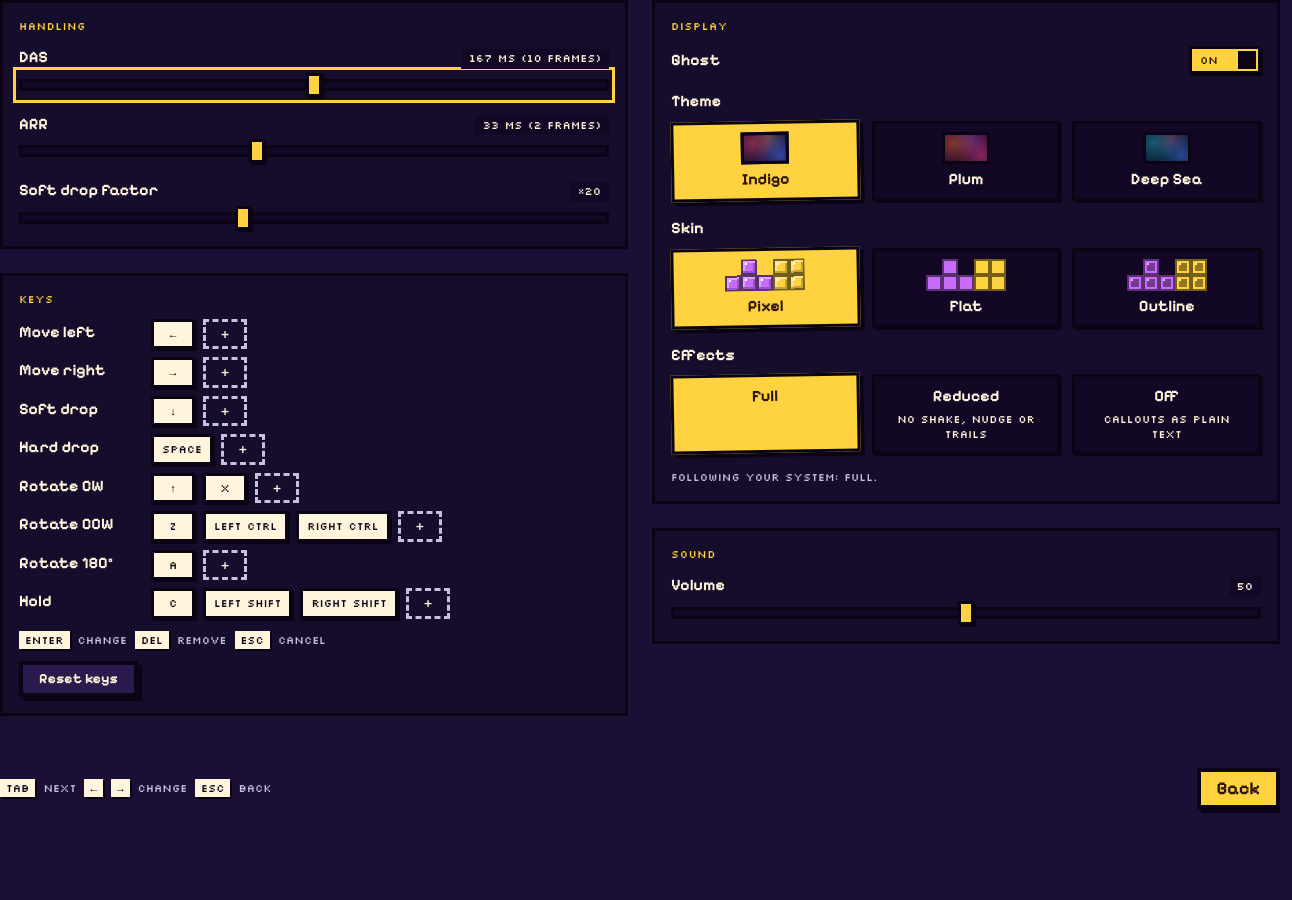
bindings › P is refused: it opens the menu
Click the button named "Hold: C" at point(173, 604), box x1=151 y1=588 x2=195 y2=619
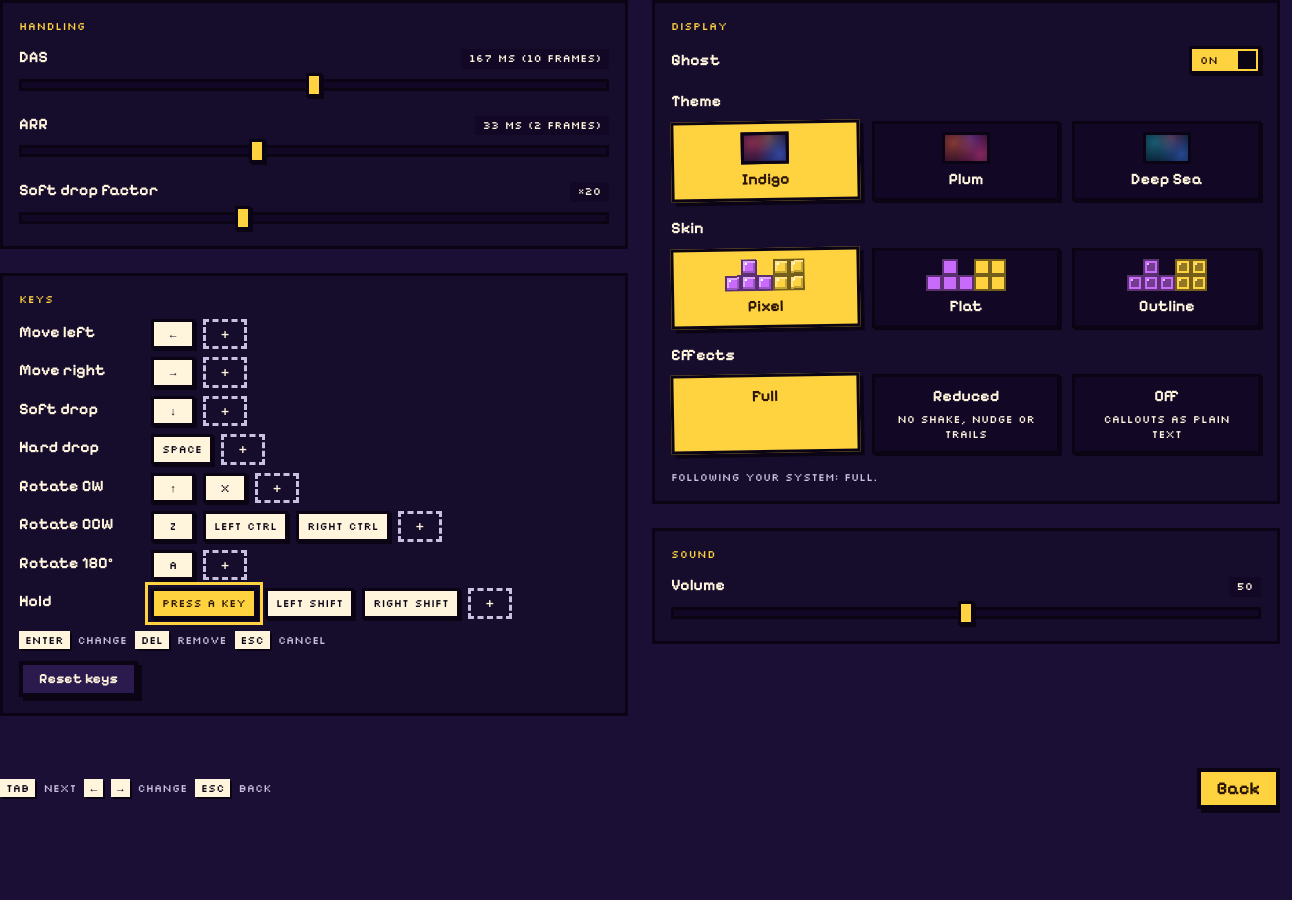
Type keys "p"
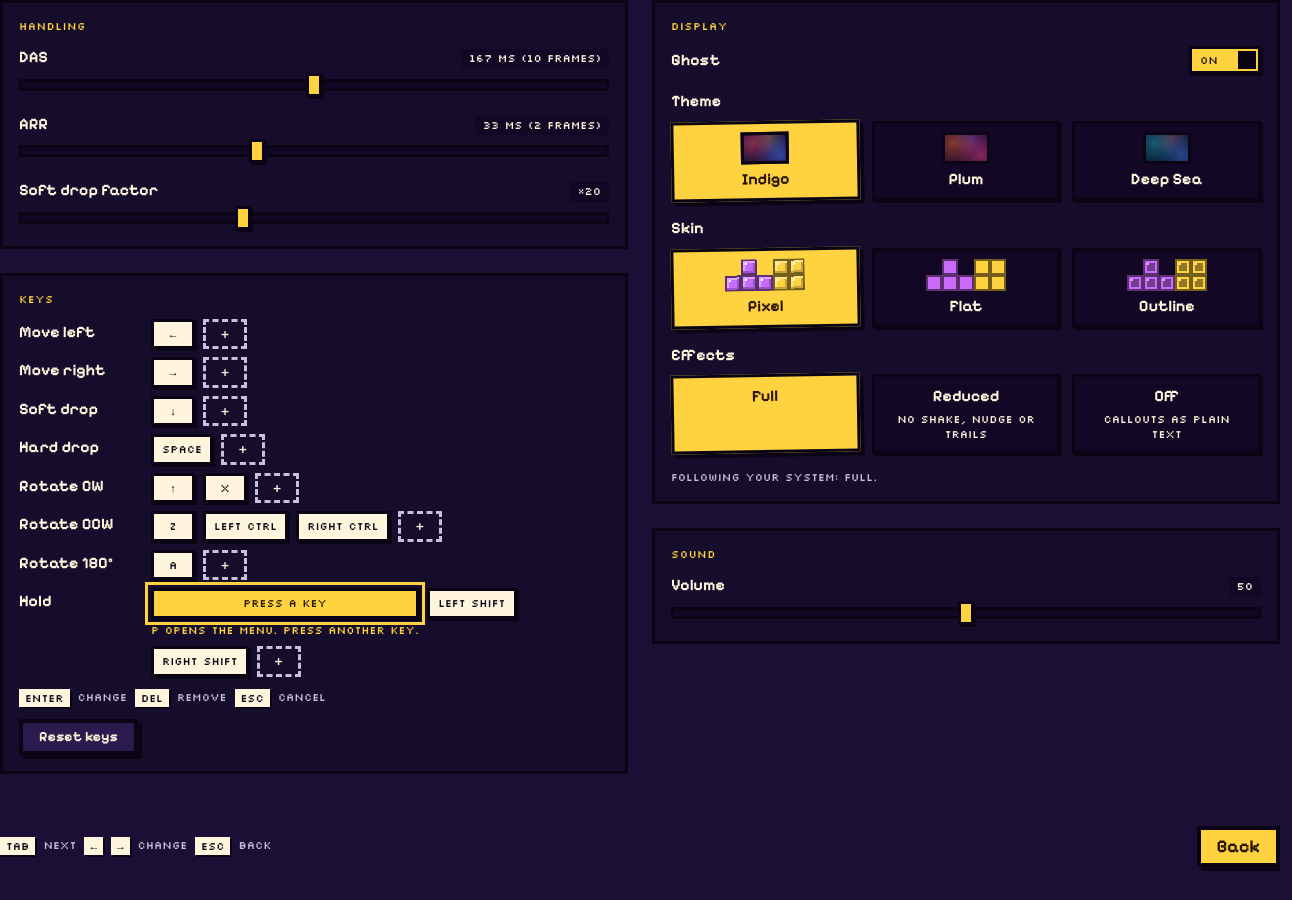
Now the text "P opens the menu. Press another key." is shown, box x1=151 y1=623 x2=419 y2=638
